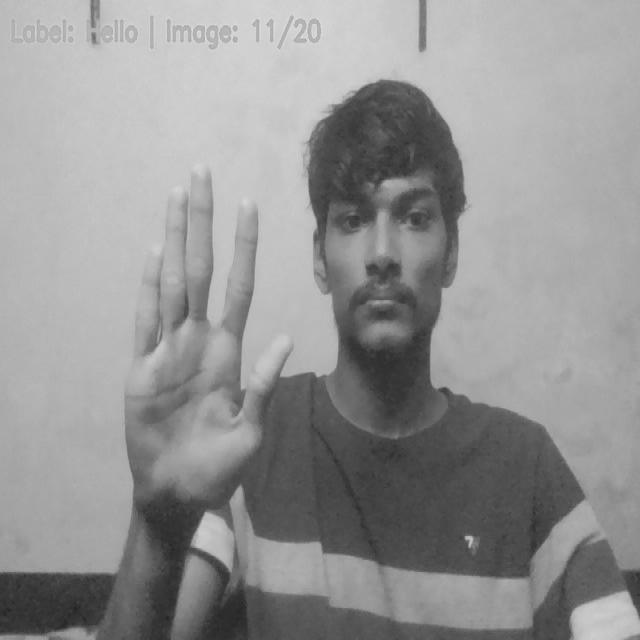Hello: (120, 158, 295, 518)
